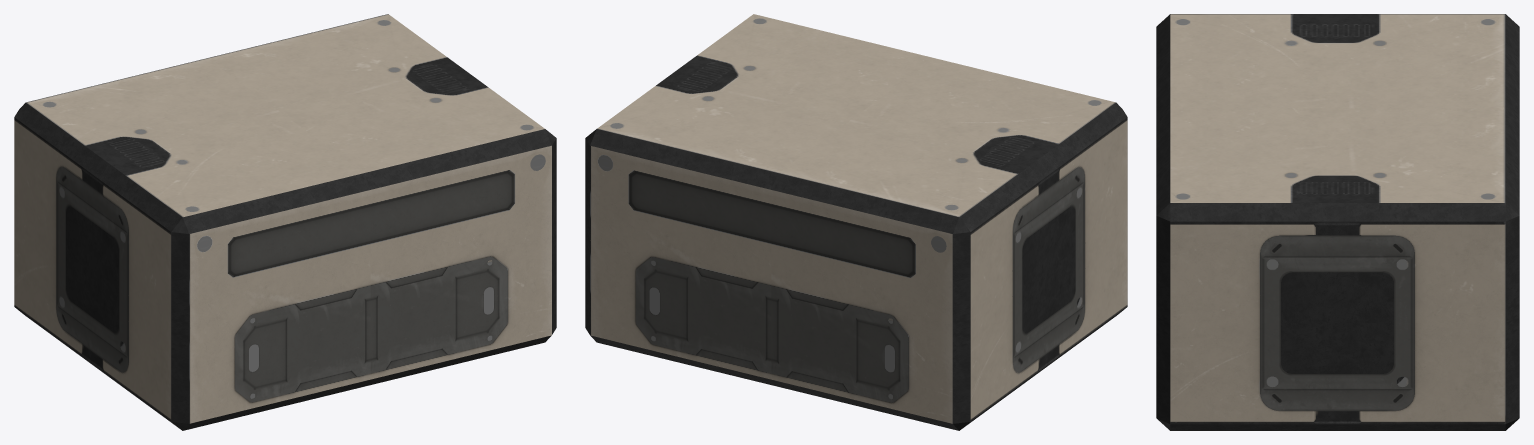
Rendered from CratePanelThin.fbx.
3 renders of one model, left to right at view 1: azimuth 30°, elevation 25°; view 2: azimuth 150°, elevation 25°; view 3: azimuth 270°, elevation 25°, orthographic. The views are drawn at different scales.
Parts seen in each view (by area): view 1: CratePanelThin; view 2: CratePanelThin; view 3: CratePanelThin.
Boxes of the visible parts, <box> form: CratePanelThin: <box>14,14,556,430</box>; CratePanelThin: <box>585,14,1127,430</box>; CratePanelThin: <box>1156,14,1519,430</box>.
Size of the model in its own units: 60.23 by 31.9 by 46.06.
